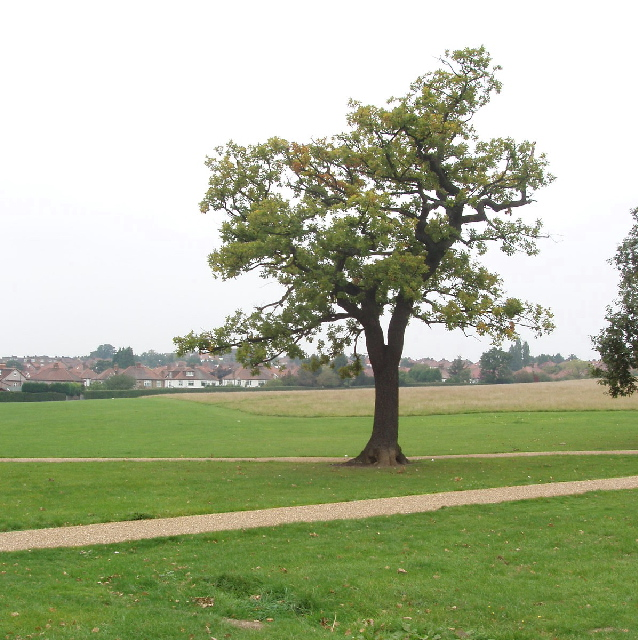tree: (204, 47, 552, 469)
